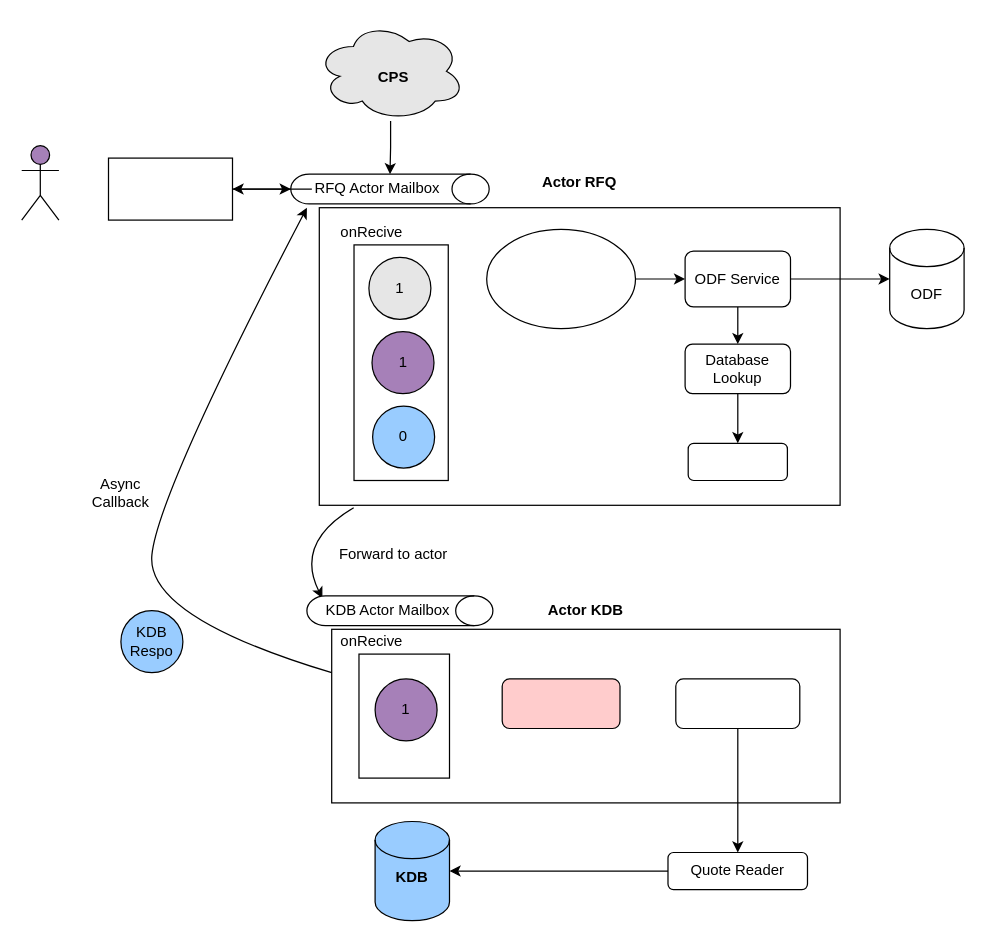
The diagram is 986 pixels wide and 942 high, and some of its shapes have lost their labels. The shapes that lost their labels are listed below. From the top down, each one's box as (x1, y1, x2, y2) in pixels, then its label:
(20, 144, 59, 220): Actor
(107, 157, 232, 220): Lookup (Timeout = 3000 ms)
(485, 228, 636, 329): Internal Cache
(687, 442, 787, 480): KDB Lookup
(501, 678, 620, 728): KDB Datasource
(675, 678, 800, 728): Quote Reader Datasource
